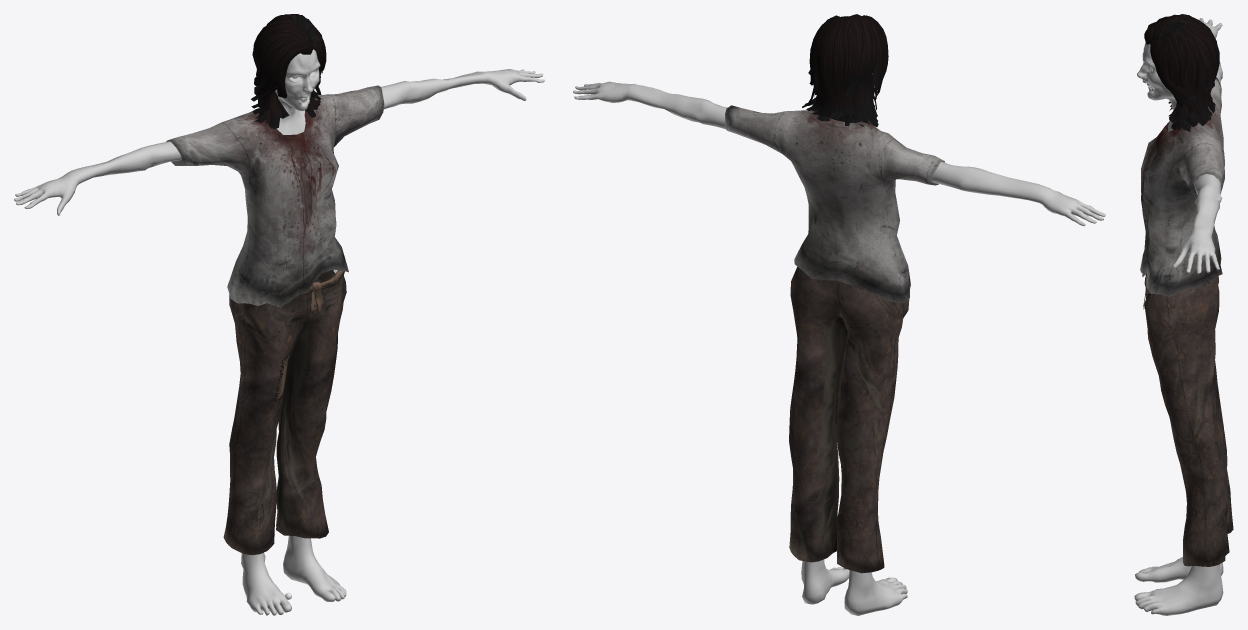
File: Zombie-4.fbx
The picture shows the model from 3 angles, left to right: view 1: azimuth 30°, elevation 25°; view 2: azimuth 150°, elevation 25°; view 3: azimuth 270°, elevation 25°; orthographic projection.
Parts seen in each view (by area): view 1: Object_4, Object_3, Object_5, Object_2; view 2: Object_4, Object_3, Object_5, Object_2; view 3: Object_4, Object_3, Object_5, Object_2.
Boxes of the visible parts, box(x1,y1,x2,y2) form: Object_4: box(223, 270, 346, 555); Object_3: box(166, 85, 384, 307); Object_5: box(14, 49, 544, 615); Object_2: box(251, 14, 326, 128); Object_4: box(789, 266, 909, 573); Object_3: box(725, 105, 944, 302); Object_5: box(573, 73, 1105, 615); Object_2: box(802, 14, 888, 126); Object_4: box(1143, 274, 1233, 566); Object_3: box(1140, 77, 1224, 296); Object_5: box(1134, 18, 1223, 615); Object_2: box(1144, 14, 1219, 131).
Bounding box in the file's own units: 16714 × 17685 × 2728.
